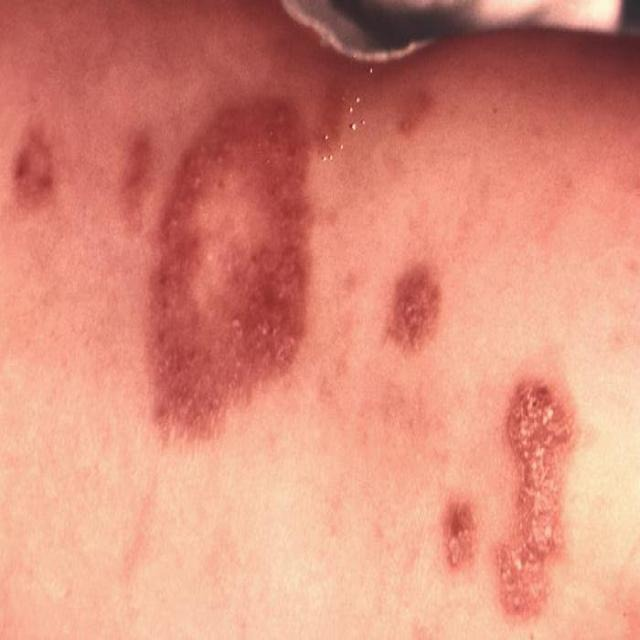Ringworm: (135, 35, 328, 465), (375, 252, 463, 377)
